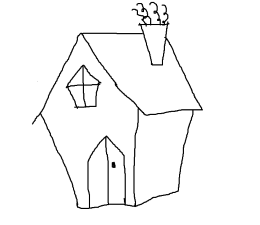closed_window: (64, 63, 104, 115)
door: (79, 130, 131, 213)
roof: (15, 26, 204, 126)
smoking_chimney: (131, 0, 176, 75)
wall: (32, 90, 146, 212)
